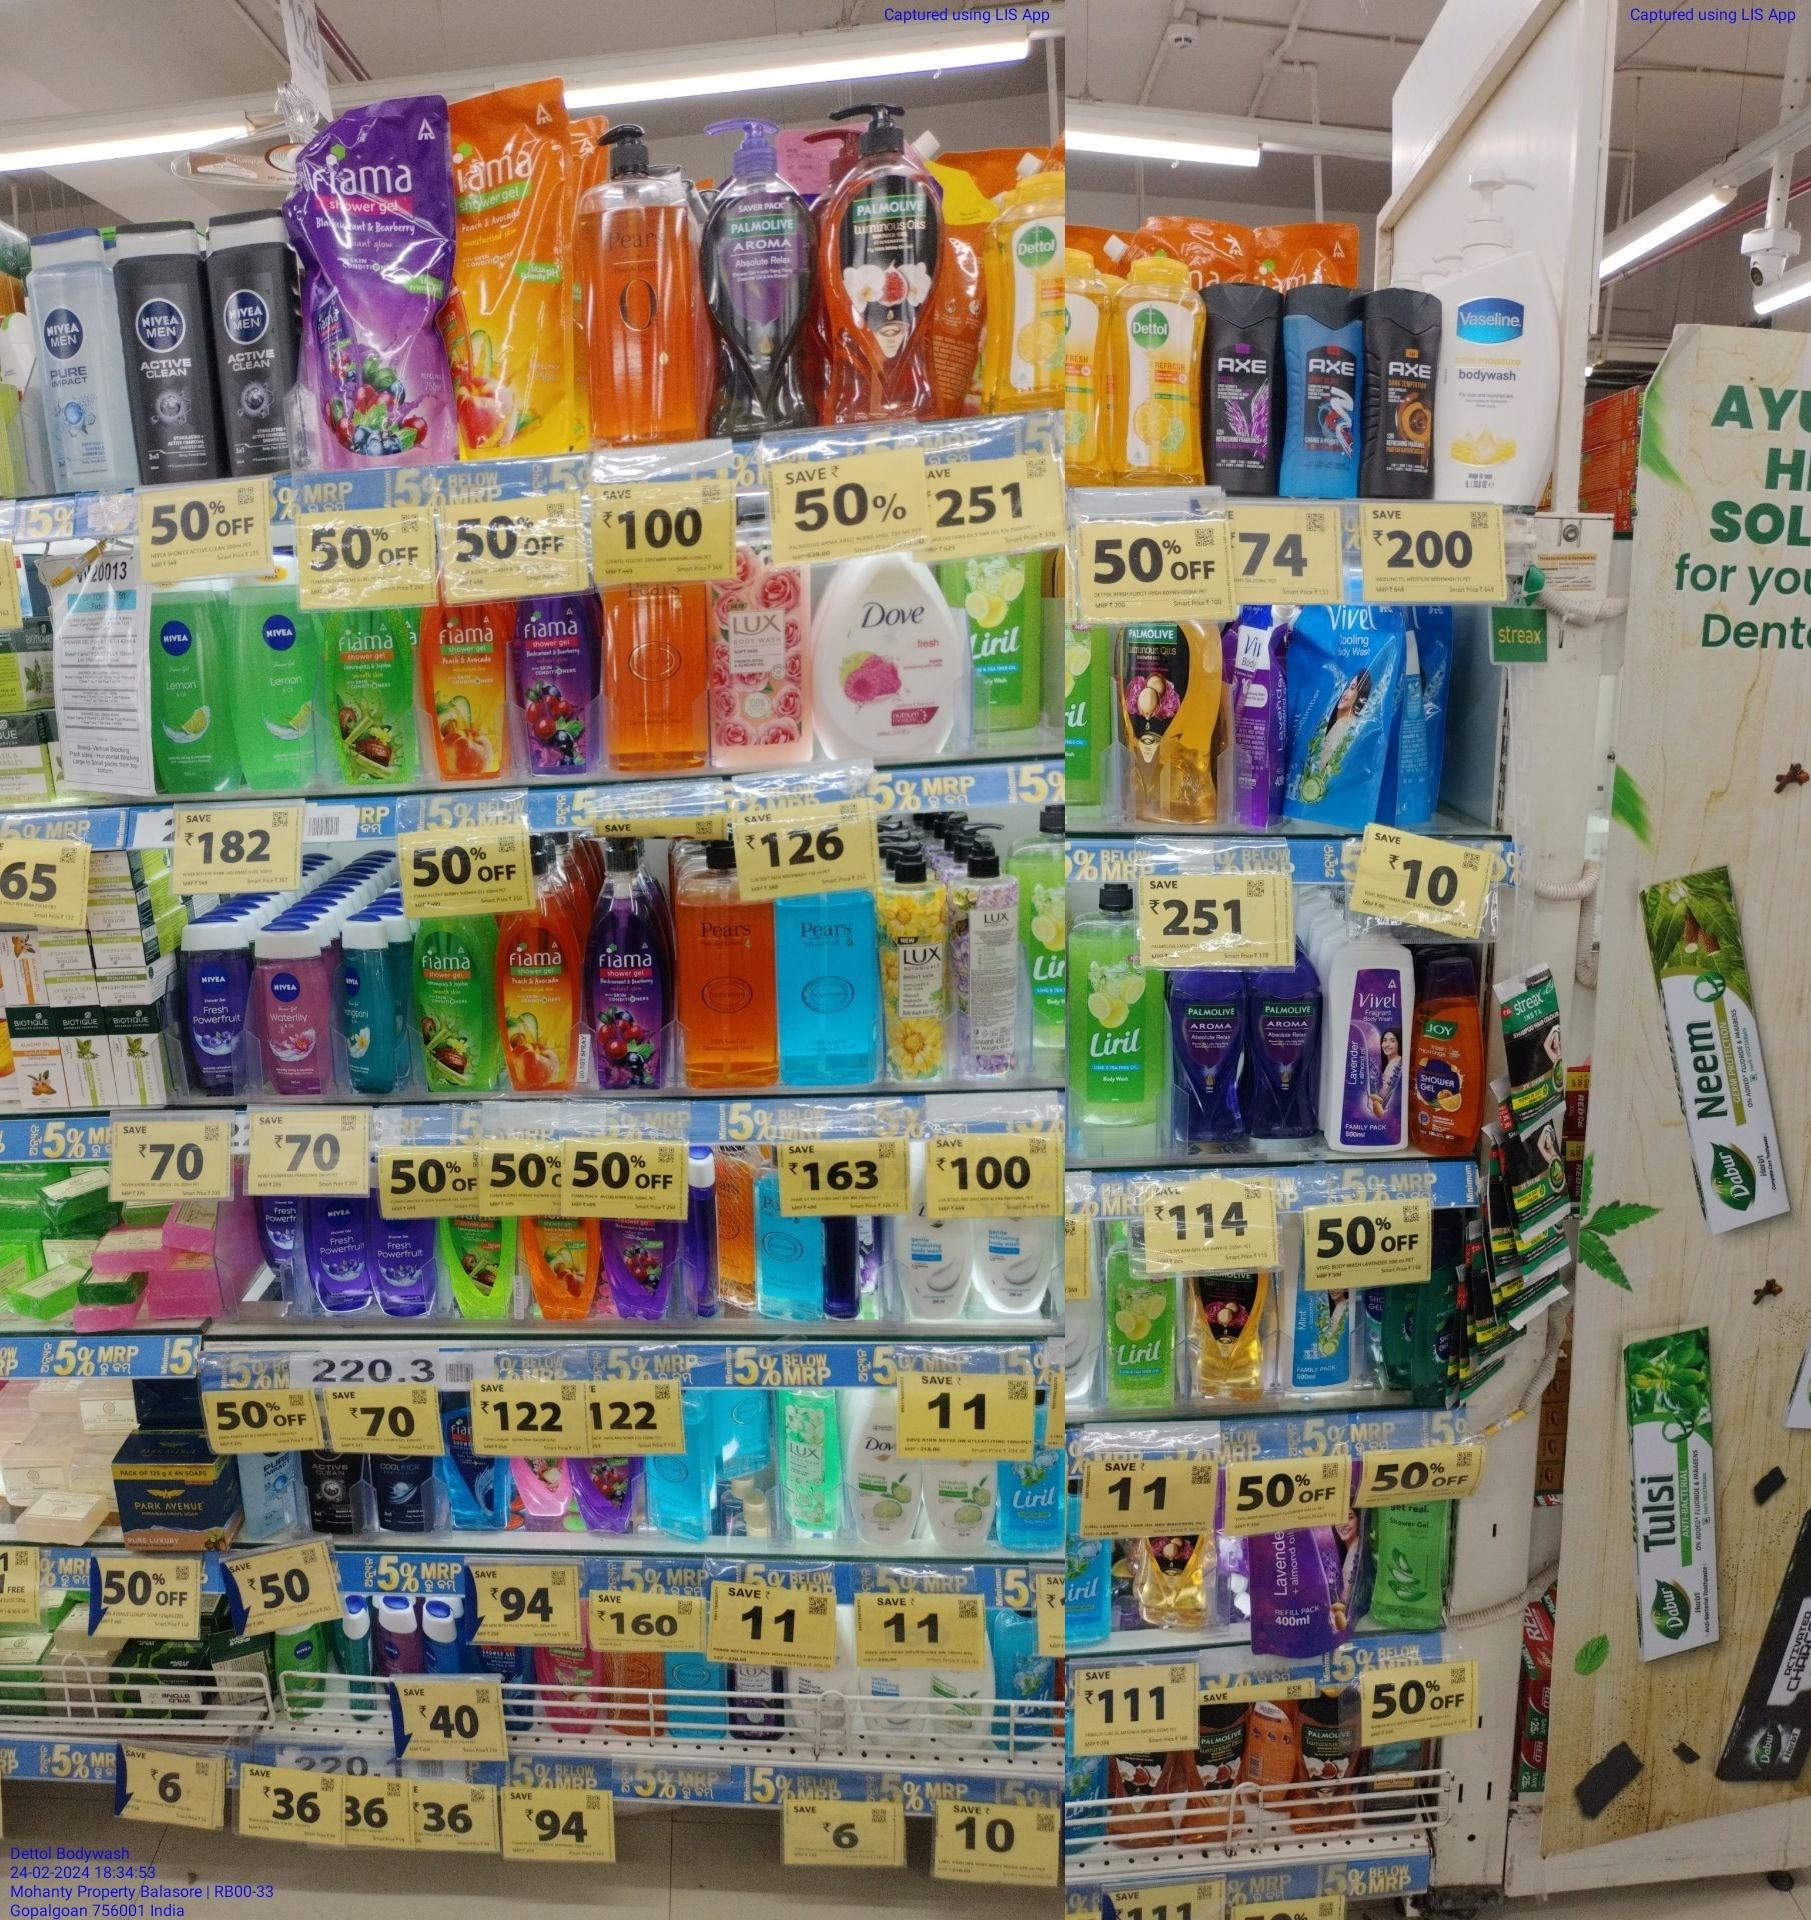Dettol_Bodywash_Refresh: (1115, 259, 1207, 485)
Dove_Refreshing_Body_Wash_250ML: (851, 1386, 924, 1544), (933, 1460, 991, 1547)
Fiama_Shower_Gel_Lemongrass_and_Jojoba_250ML: (332, 606, 417, 786)
Lux_Body_Wash_Skin_Detox_Freesia_Scent_and_Alove_Vera_245ML: (781, 1386, 841, 1535)
Nivea_Shower_Gel_Frangipani_and_Oil_250ML: (340, 919, 391, 1091)
Nivea_Shower_Gel_Fresh_Powerfruit_250ML: (182, 926, 249, 1094)
Nivea_Shower_Gel_Lemon_and_Oil_250ML: (233, 548, 315, 788), (148, 586, 230, 788)
Nivea_Shower_Gel_Waterlily_and_Oil_250ML: (259, 928, 325, 1094)
